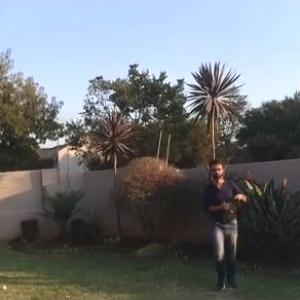follow: (195, 152, 256, 297)
